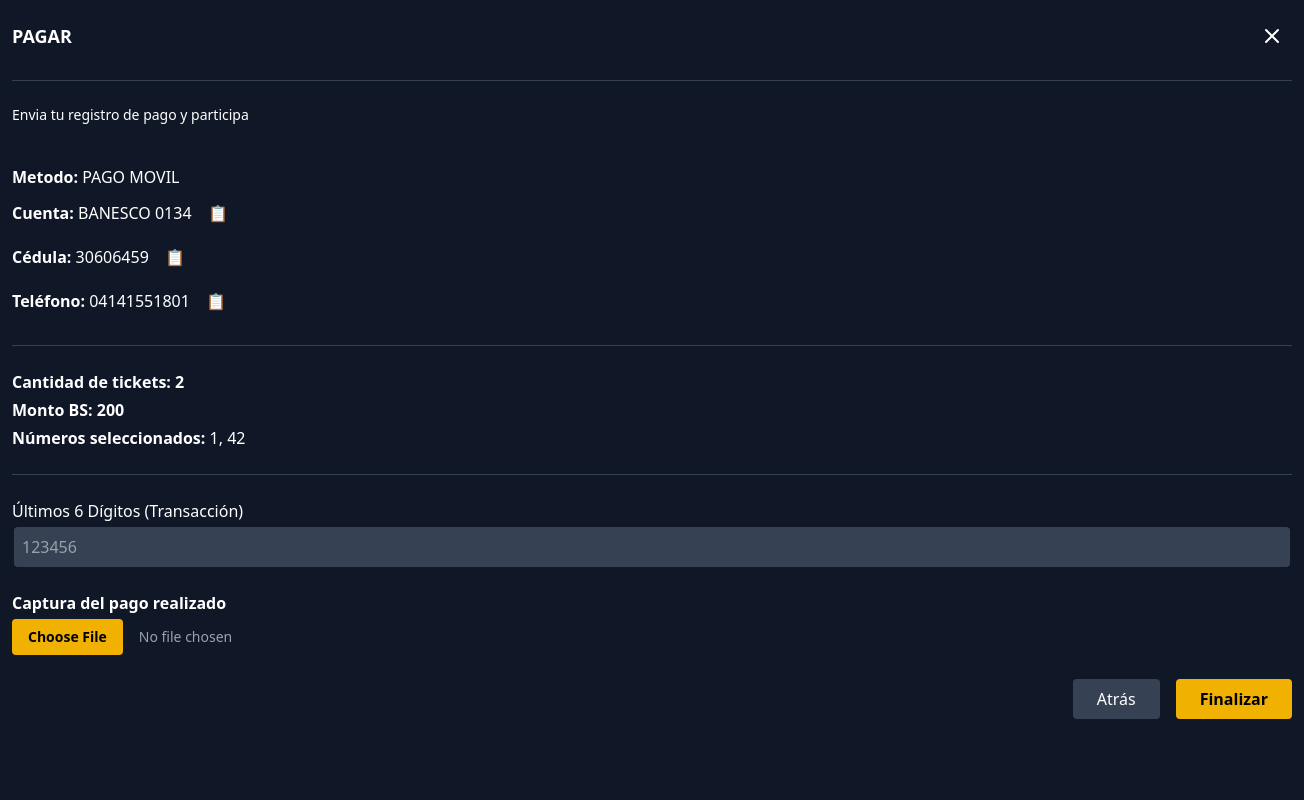
Test: <BuyForm /> › digits input accepts only digits and trims to max length of 6
Type "12ab34!@#56xyz" into the field labelled "Últimos 6 Dígitos (Transacción)".
click(652, 547); type("12ab34!@#56xyz")  # box [14, 527, 1290, 567]
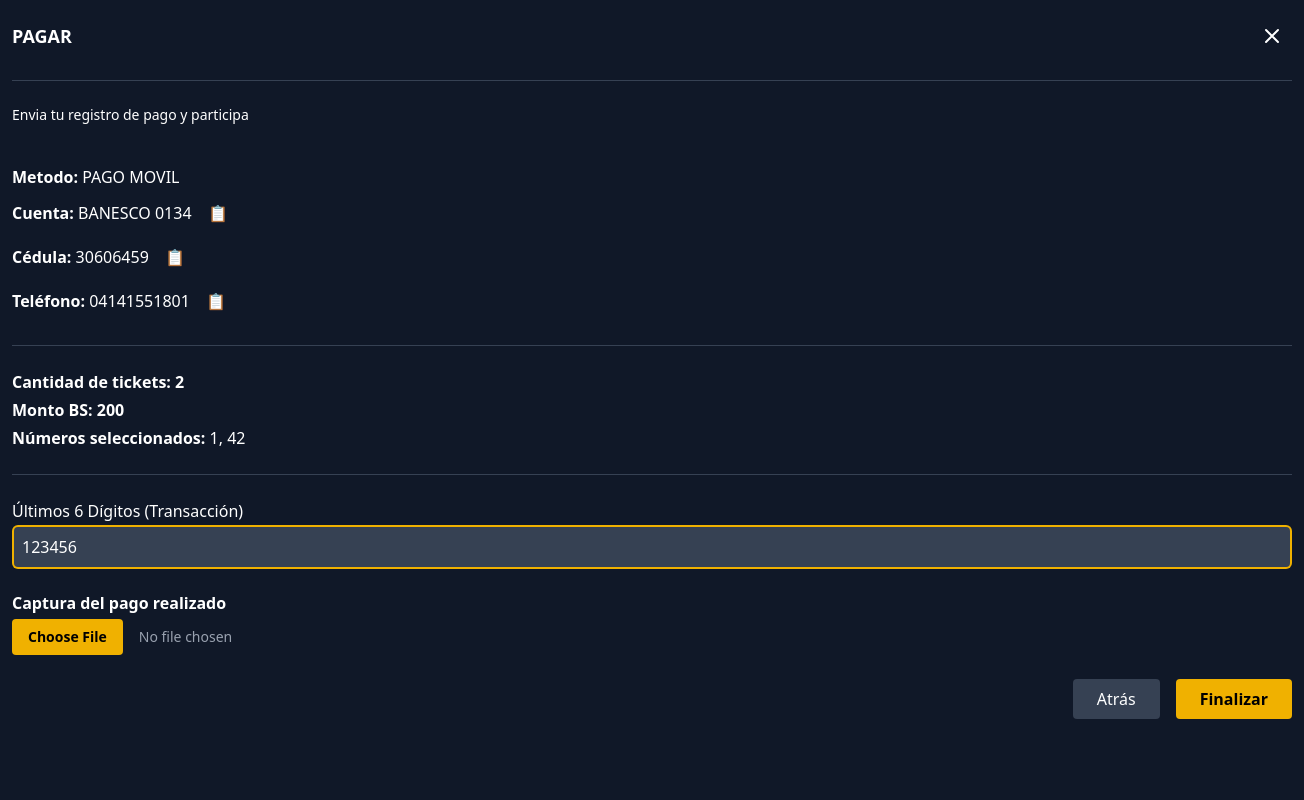
Check: the field labelled "Últimos 6 Dígitos (Transacción)" holds "123456", box [14, 527, 1290, 567]
